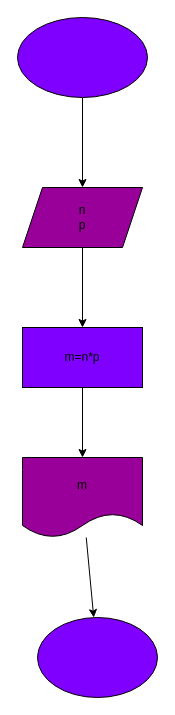
Some shapes in this 175 by 715 pixel diagram are drawn without their labels. Each missing label, with the centre of its shape:
"FIN" belongs at point 97,657.
"INICIO" belongs at point 82,57.
